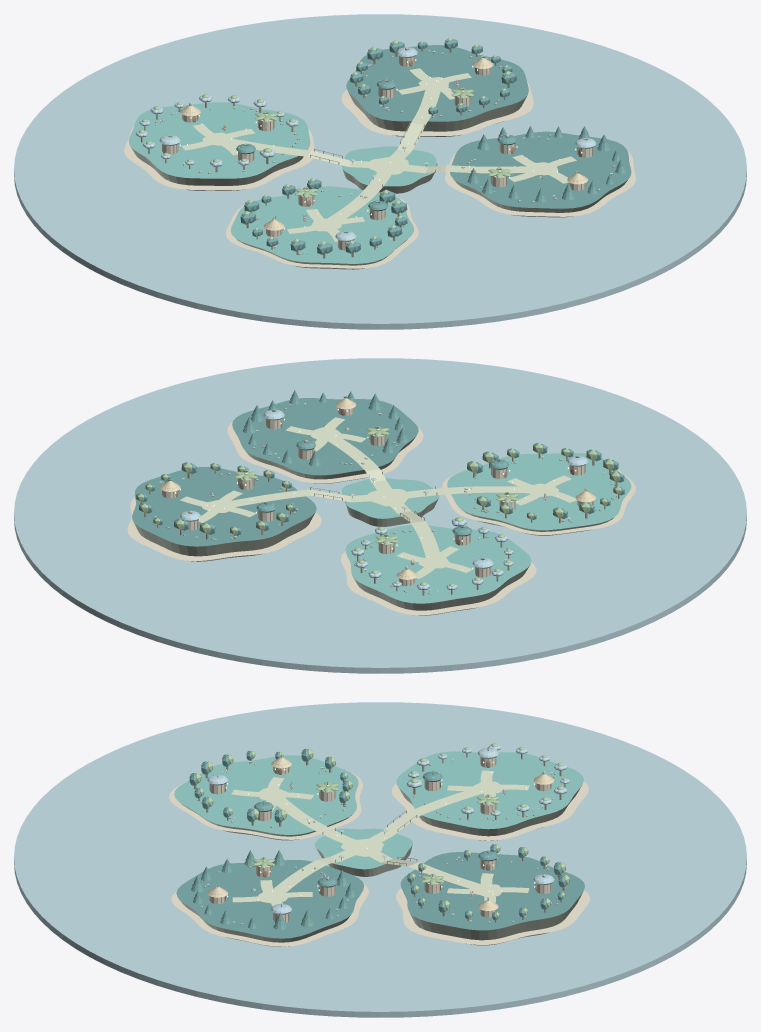
File: grade3-terrain.glb
The picture shows the model from 3 angles, top to bottom: view 1: azimuth 30°, elevation 25°; view 2: azimuth 150°, elevation 25°; view 3: azimuth 270°, elevation 25°; orthographic projection.
Parts seen in each view (by area): view 1: Nature_water, Walk_Nature_grass, Walk_Nature_deep, Walk_Nature_path, Nature_deep, Nature_sand, Nature_soil, Nature_cream, Nature_flower, Nature_leaf, Nature_wood, Nature_reed; view 2: Nature_water, Walk_Nature_grass, Walk_Nature_deep, Walk_Nature_path, Nature_sand, Nature_soil, Nature_deep, Nature_leaf, Nature_cream, Nature_flower, Nature_wood, Nature_reed; view 3: Nature_water, Walk_Nature_grass, Walk_Nature_deep, Walk_Nature_path, Nature_sand, Nature_soil, Nature_deep, Nature_leaf, Nature_cream, Nature_flower, Nature_wood, Nature_reed.
Boxes of the visible parts, x1,y1,x2,y2 form: Nature_water: (14, 14, 746, 329); Walk_Nature_grass: (129, 102, 436, 263); Walk_Nature_deep: (346, 45, 631, 208); Walk_Nature_path: (181, 68, 576, 241); Nature_deep: (155, 39, 626, 255); Nature_sand: (124, 82, 635, 268); Nature_soil: (130, 91, 627, 269); Nature_cream: (162, 48, 593, 250); Nature_flower: (136, 47, 616, 254); Nature_leaf: (139, 37, 586, 245); Nature_wood: (141, 48, 593, 258); Nature_reed: (180, 57, 587, 230); Nature_water: (14, 358, 746, 673); Walk_Nature_grass: (341, 453, 631, 603); Walk_Nature_deep: (132, 398, 418, 546); Walk_Nature_path: (180, 417, 576, 578); Nature_sand: (127, 422, 635, 615); Nature_soil: (133, 437, 613, 615); Nature_deep: (136, 390, 624, 591); Nature_leaf: (136, 396, 621, 586); Nature_cream: (162, 401, 593, 586); Nature_flower: (154, 403, 617, 591); Nature_wood: (140, 408, 619, 595); Nature_reed: (159, 398, 596, 579); Nature_water: (14, 702, 746, 1017); Walk_Nature_grass: (174, 751, 583, 869); Walk_Nature_deep: (176, 852, 584, 938); Walk_Nature_path: (231, 770, 529, 906); Nature_sand: (169, 770, 589, 946); Nature_soil: (179, 786, 582, 946); Nature_deep: (189, 748, 566, 929); Nature_leaf: (194, 743, 569, 918); Nature_cream: (210, 749, 551, 922); Nature_flower: (196, 744, 569, 922); Nature_wood: (194, 753, 565, 922); Nature_reed: (207, 757, 554, 910).
Size of the model in its own units: 170 by 10.68 by 170.
